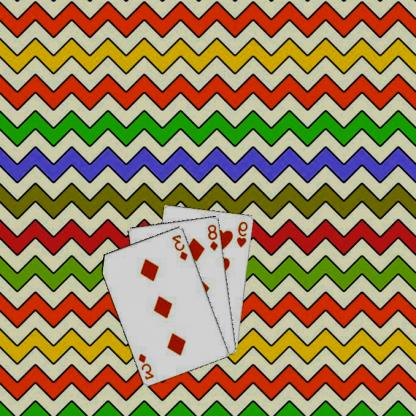3D: (171, 232, 191, 261), (138, 351, 157, 380)
8D: (207, 222, 221, 252)
9H: (236, 218, 251, 248)
